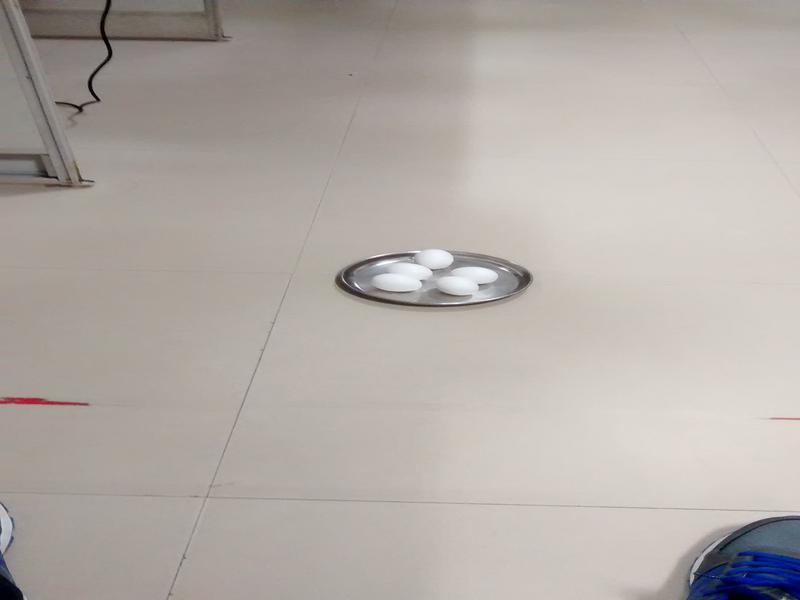egg: (370, 265, 424, 298)
